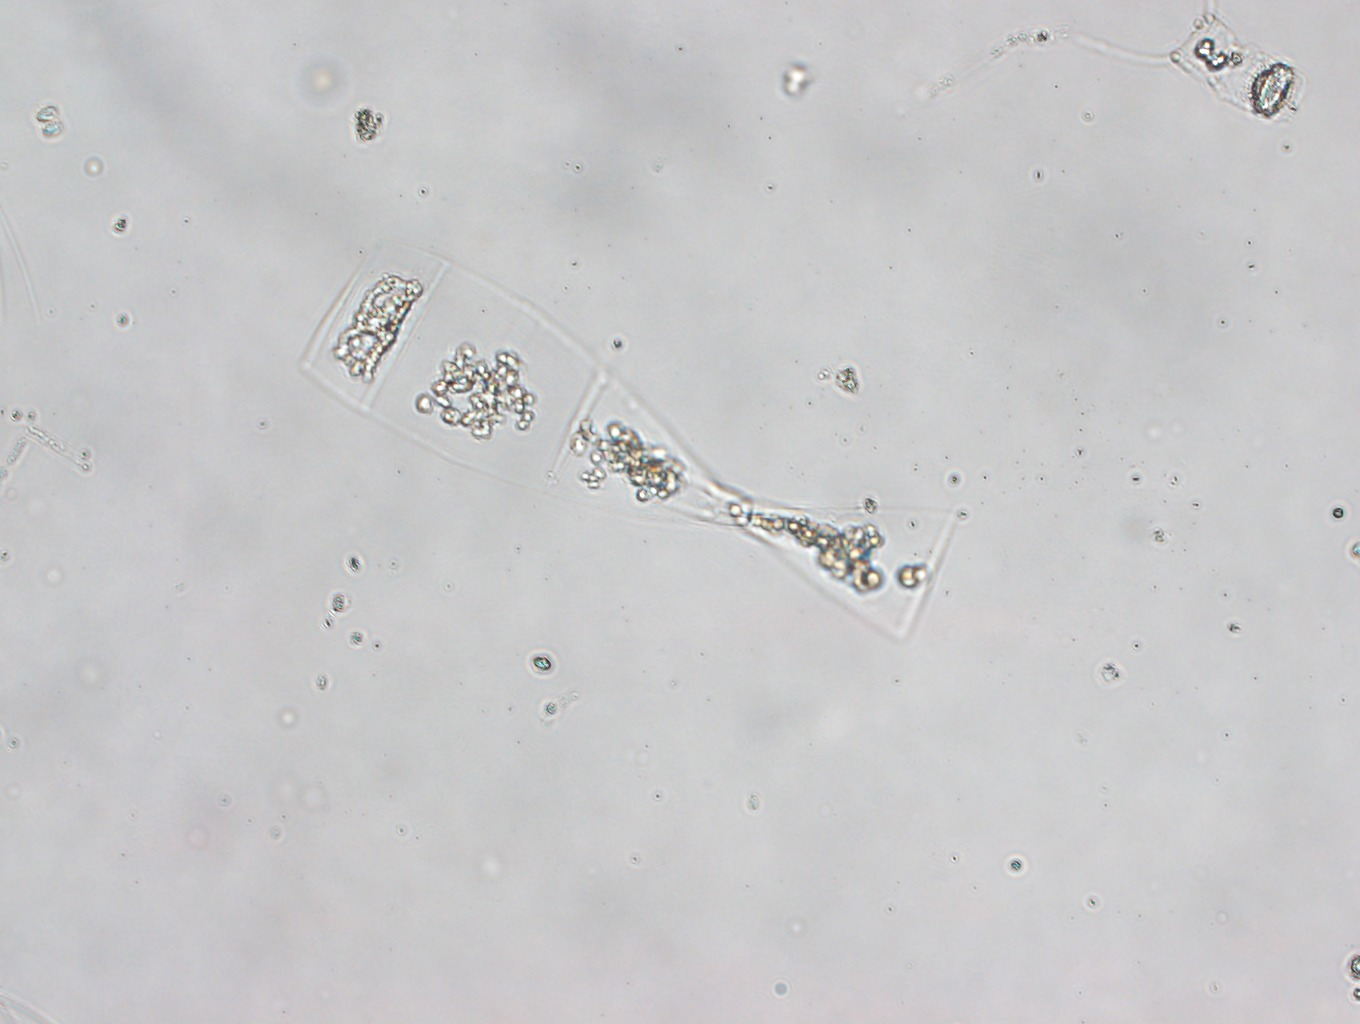helicotheca: (287, 218, 969, 652)
